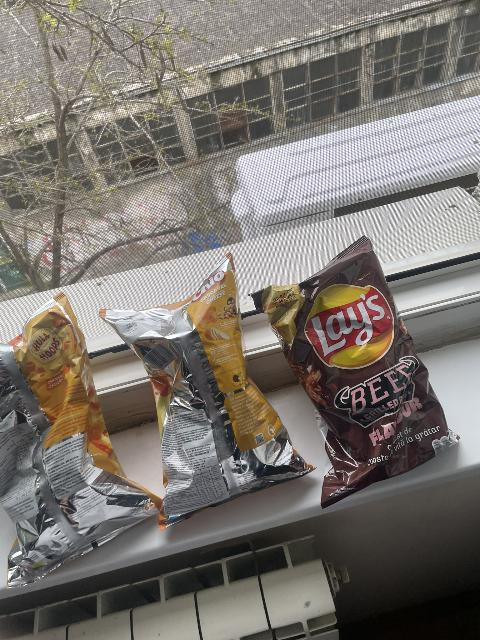Chio Cascaval 125g: (98, 249, 316, 528)
Chio Hula Hoops Cheese 70g: (0, 287, 166, 590)
Lays Beef Grilled Ribs 125g: (246, 235, 461, 509)
